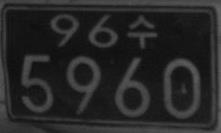5: (19, 53, 53, 114)
6: (113, 56, 150, 118), (87, 14, 118, 49)
9: (65, 54, 102, 114), (50, 12, 80, 46)
수: (162, 56, 201, 121), (126, 14, 157, 48)
